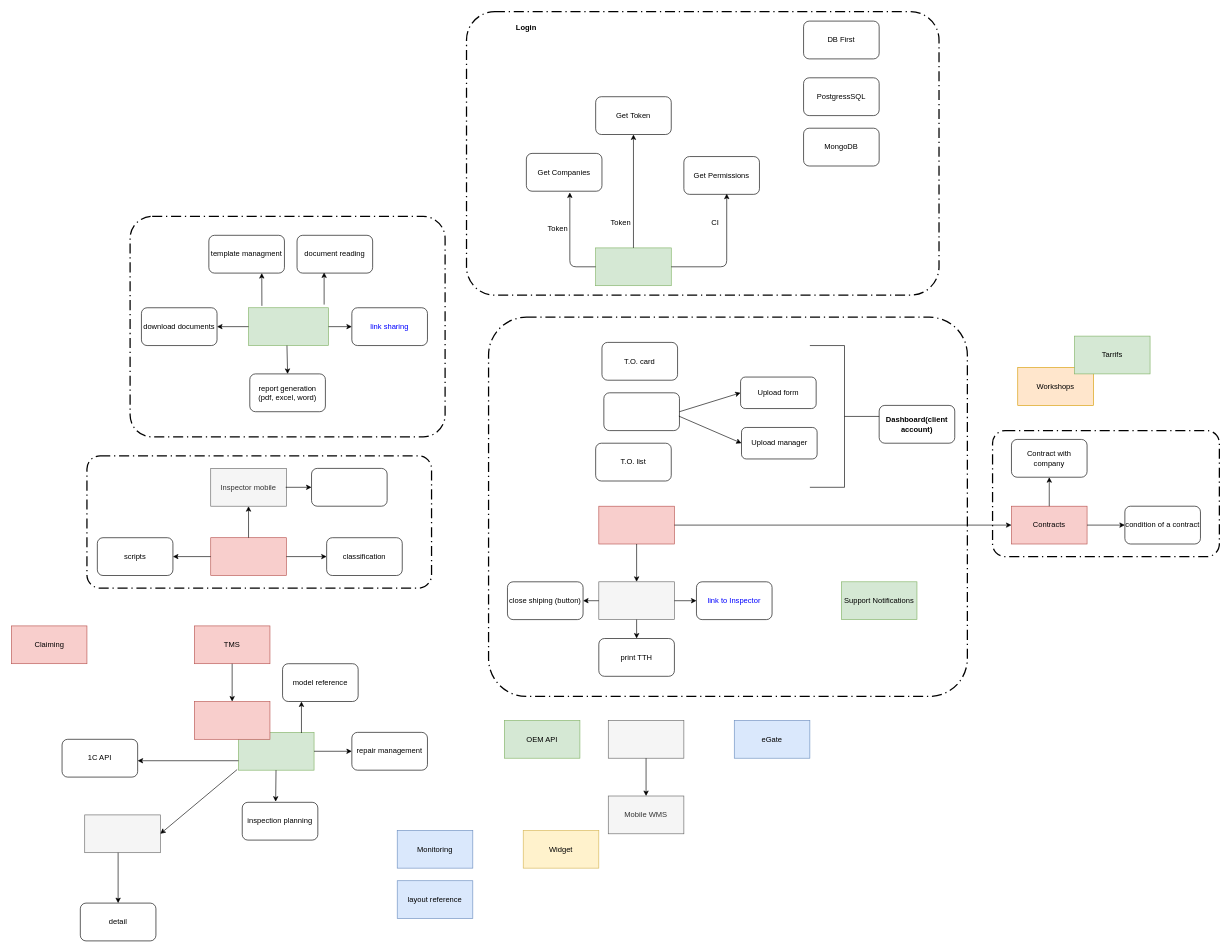
Image size: 1230x952. Some labels were removed from this diagram. Here are the shapes that lost their labels. From the top down, the centre of each, then its label:
point 633,266: S.S.
point 288,326: eDOcs
point 641,411: Upload
point 349,487: interaction with mobile T.O.
point 636,525: Transport order
point 248,556: Inspector
point 636,600: Mobile transport order
point 232,720: Transport resourses
point 646,739: WMS
point 276,751: Planning
point 122,833: Planning mobile
